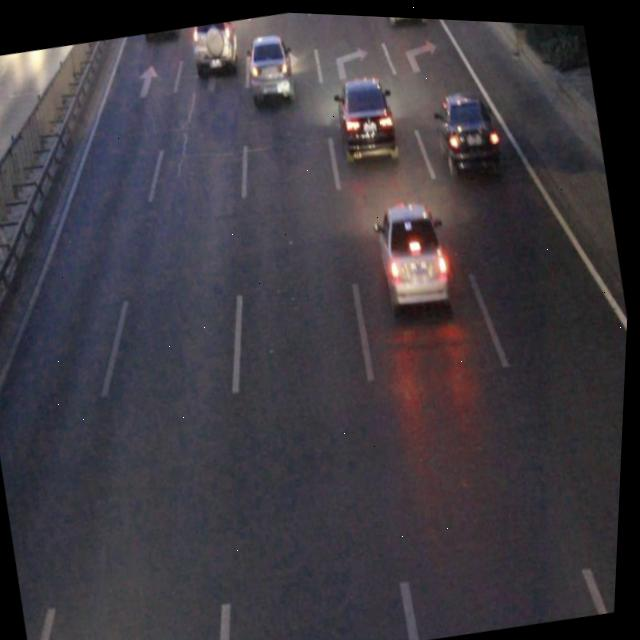car: (373, 196, 456, 306), (433, 86, 504, 173), (332, 70, 400, 157), (243, 32, 298, 100), (191, 18, 241, 68)
